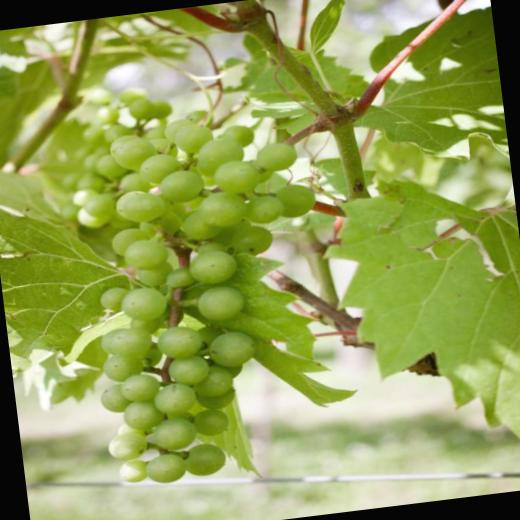Orange: (48, 67, 348, 492)
